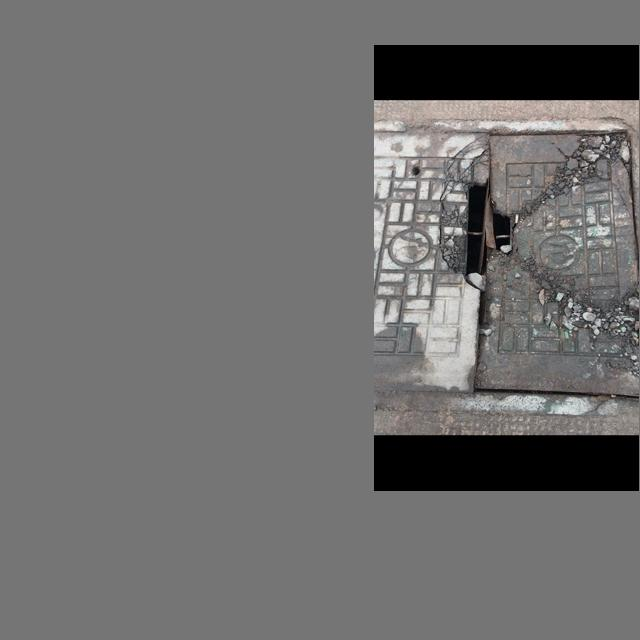broke: (377, 117, 638, 421)
